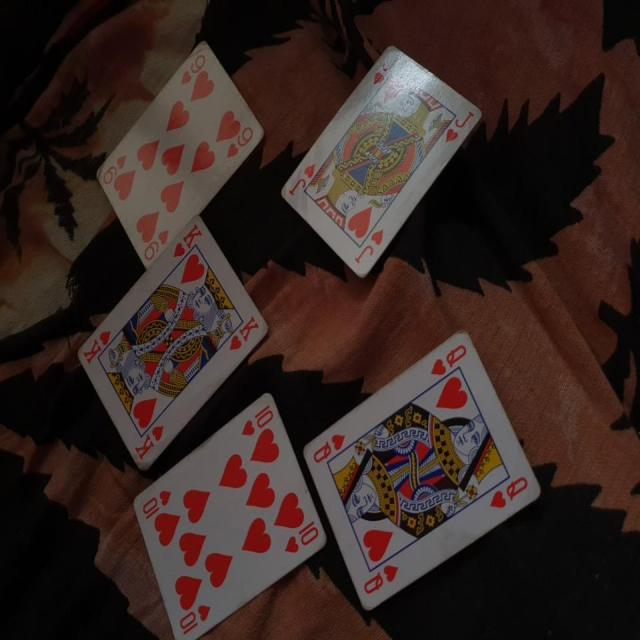10 of hearts: (125, 385, 324, 637)
5 of clubs: (270, 40, 483, 279)
9 of hearts: (98, 36, 268, 281)
king of hearts: (70, 209, 266, 471)
queen of hearts: (298, 324, 544, 622)
